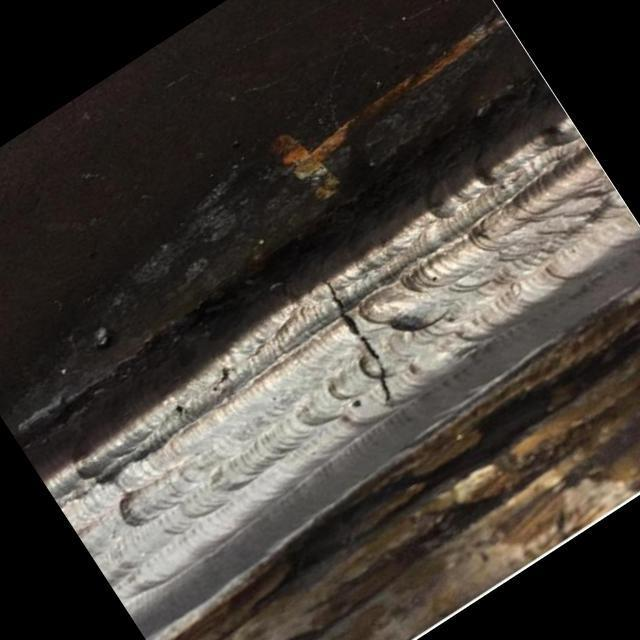defect: (318, 276, 394, 403)
